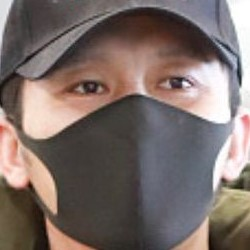mask: (27, 86, 232, 250)
